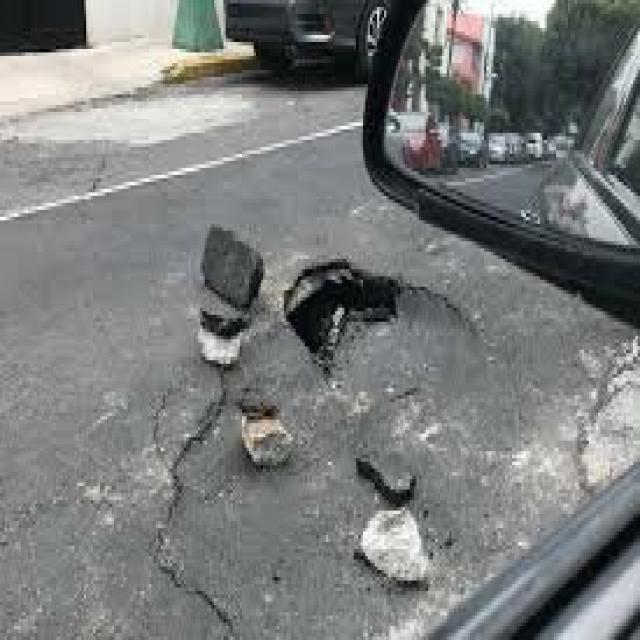Buraco: (278, 254, 420, 382), (196, 306, 258, 342)
